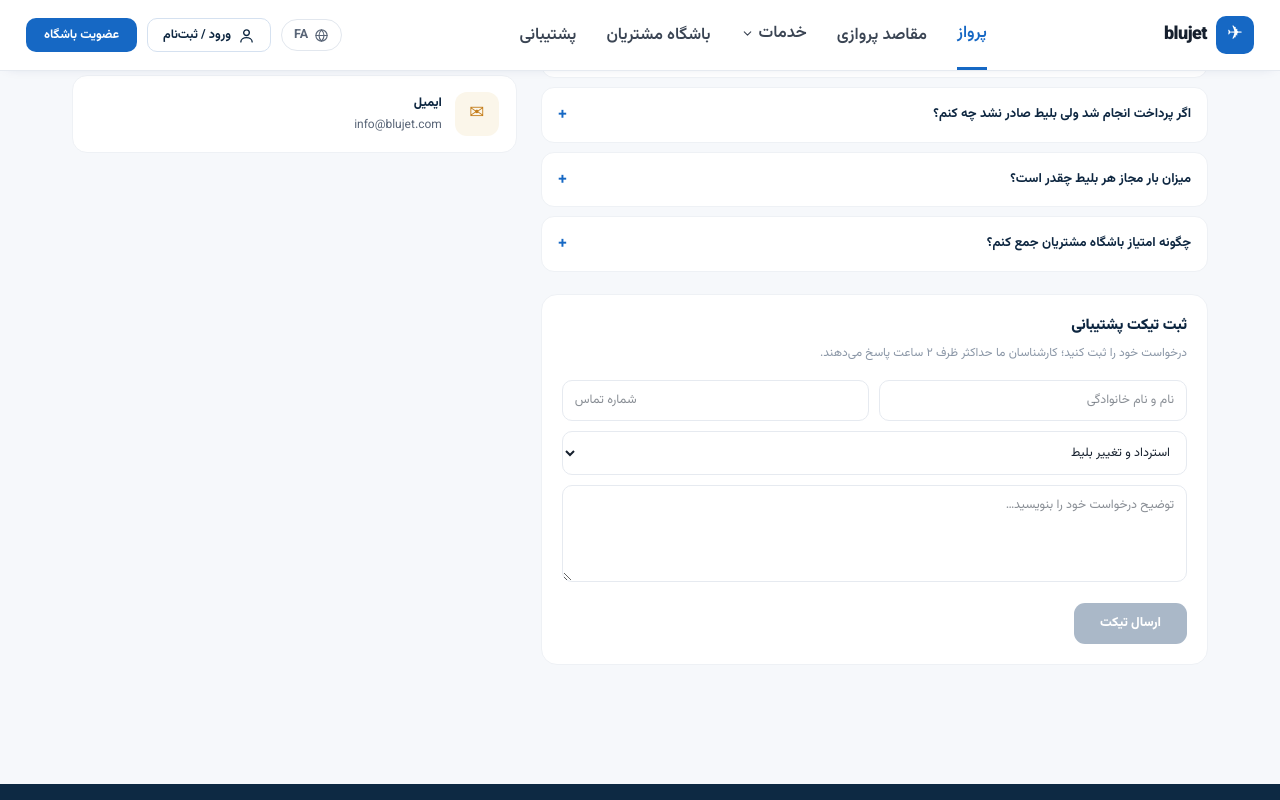
Scenario: SupportPage › submits the real ticket form and shows the real tracking code
The image size is (1280, 800).
(page scrolled)
Expected: the button with test id "ticket-submit" is disabled, [1074,603,1187,644]
Type "نگار رضایی" into the field with test id "ticket-name" at (1033, 400), box [879,380,1187,421]
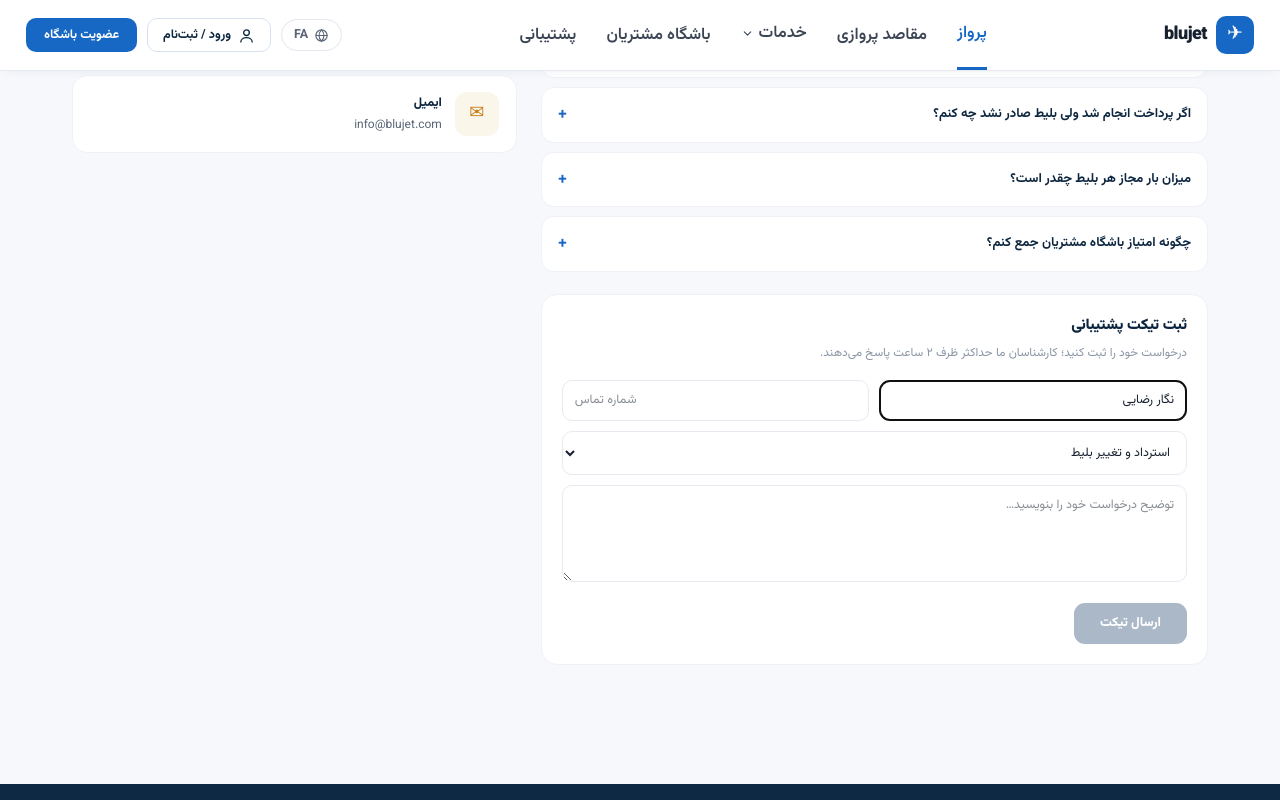
Type "09121234567" into the field with test id "ticket-phone" at (716, 400), box [562,380,869,421]
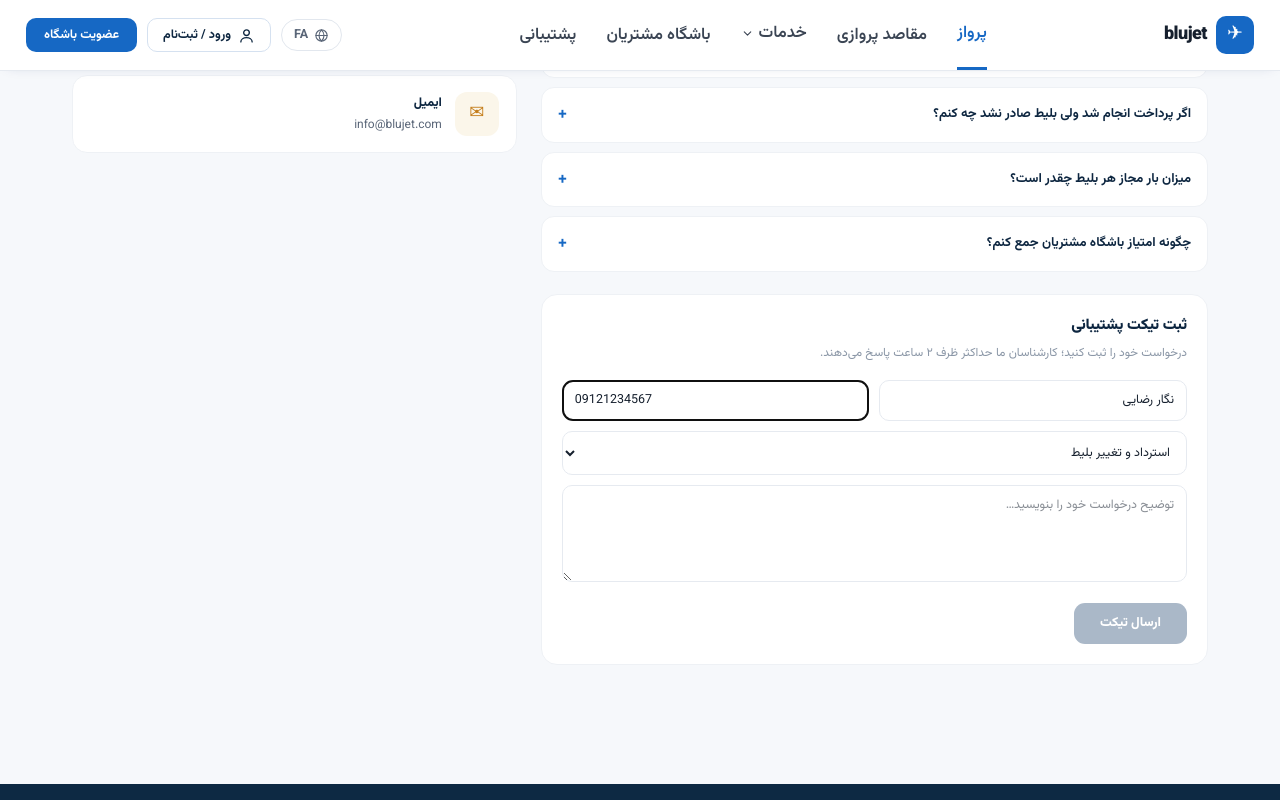
Type "مشکل در پرداخت دارم" into the text box with test id "ticket-msg" at (874, 533), box [562,485,1187,582]
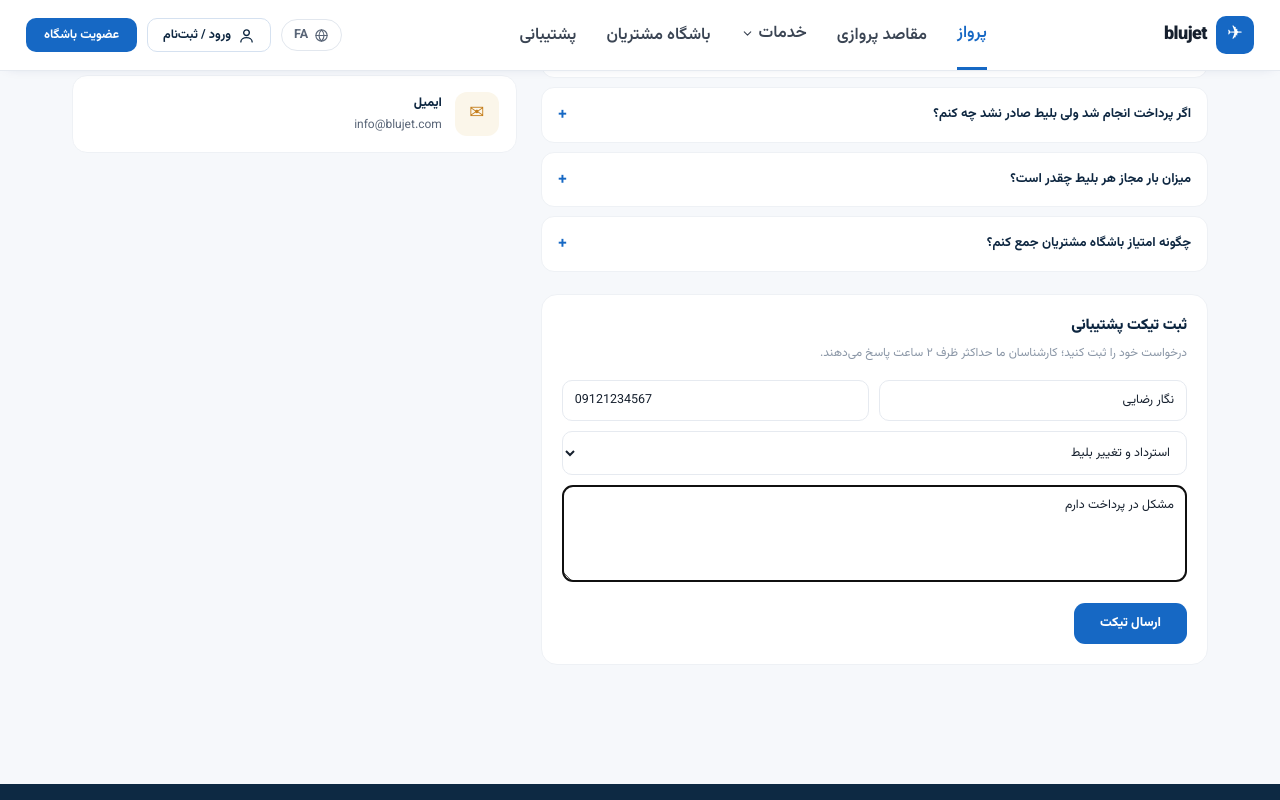
Click the button with test id "ticket-submit" at (1131, 623), box [1074,603,1187,644]
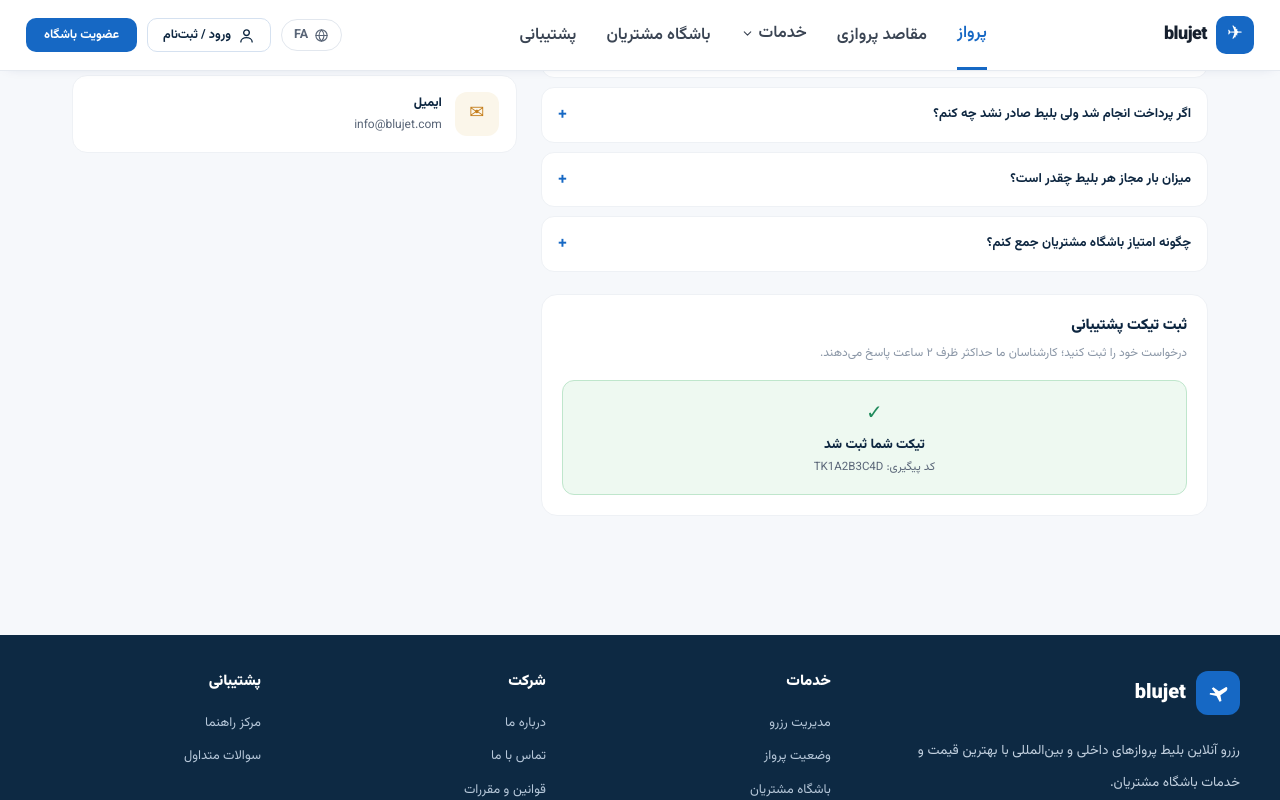
Expected: the text "تیکت شما ثبت شد" is shown, [824,434,925,455]
Expected: the text with test id "ticket-tracking-code" reads "TK1A2B3C4D", [814,458,883,476]
